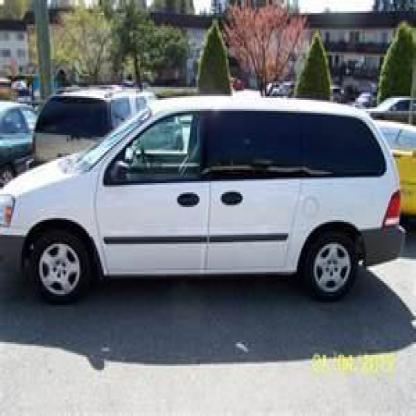Vehicle: (1, 91, 409, 305)
